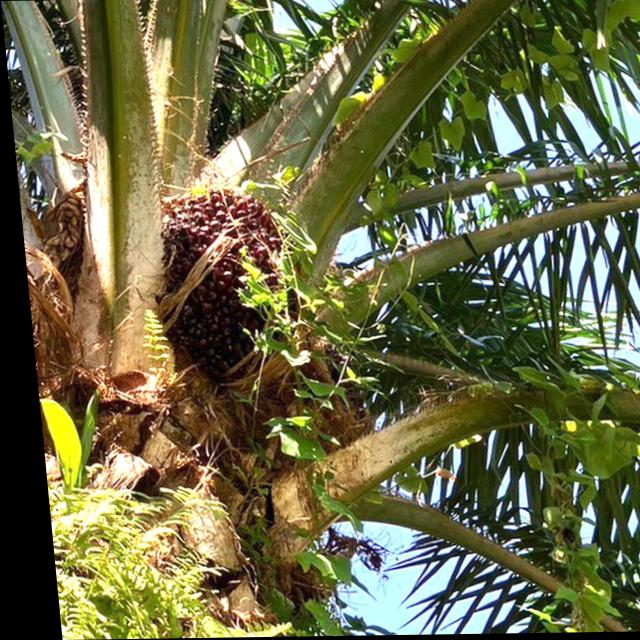ripe: (148, 182, 290, 375)
